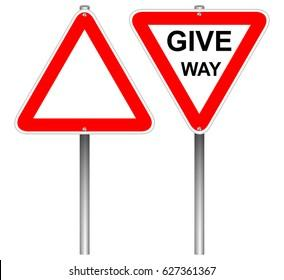Give Way: (19, 6, 151, 139), (137, 3, 263, 132)
